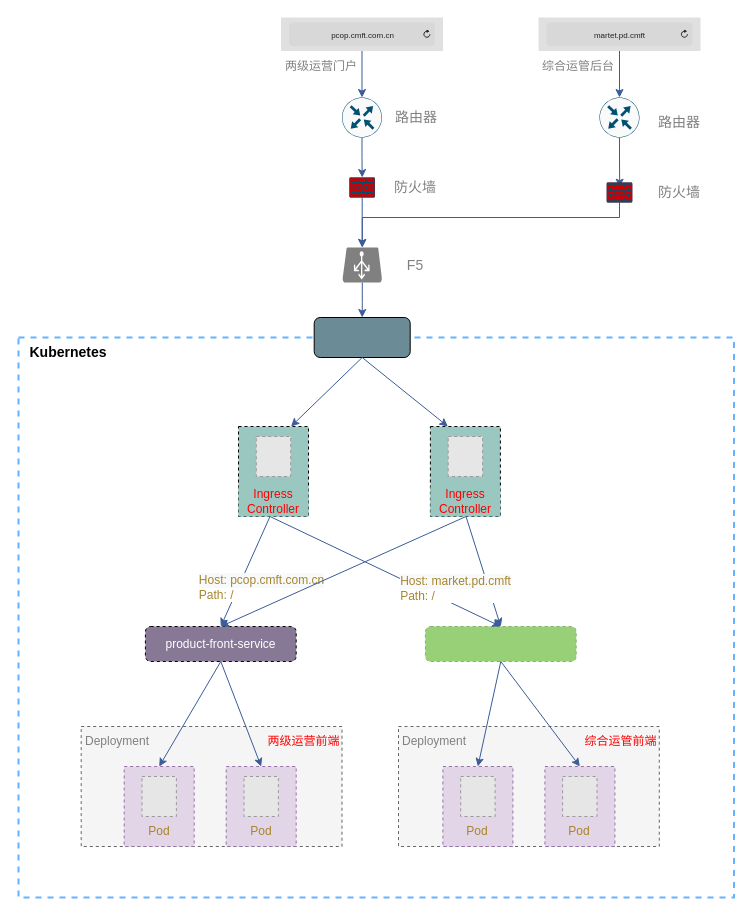
Some shapes in this 752 by 916 pixel diagram are drawn without their labels. Grey dashed boxes stand in for pictures. The box of each missing label's shape, as (x1, y1, x2, y2) in pixels:
LB: (313, 316, 410, 358)
market-front-service: (424, 626, 576, 662)
